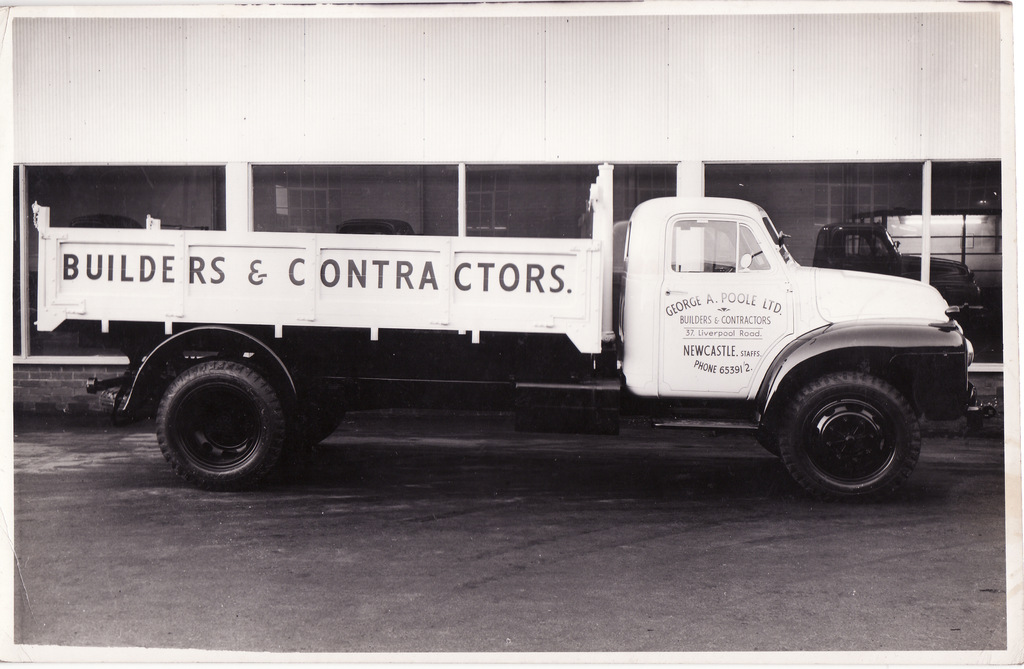truck: (27, 136, 983, 507)
